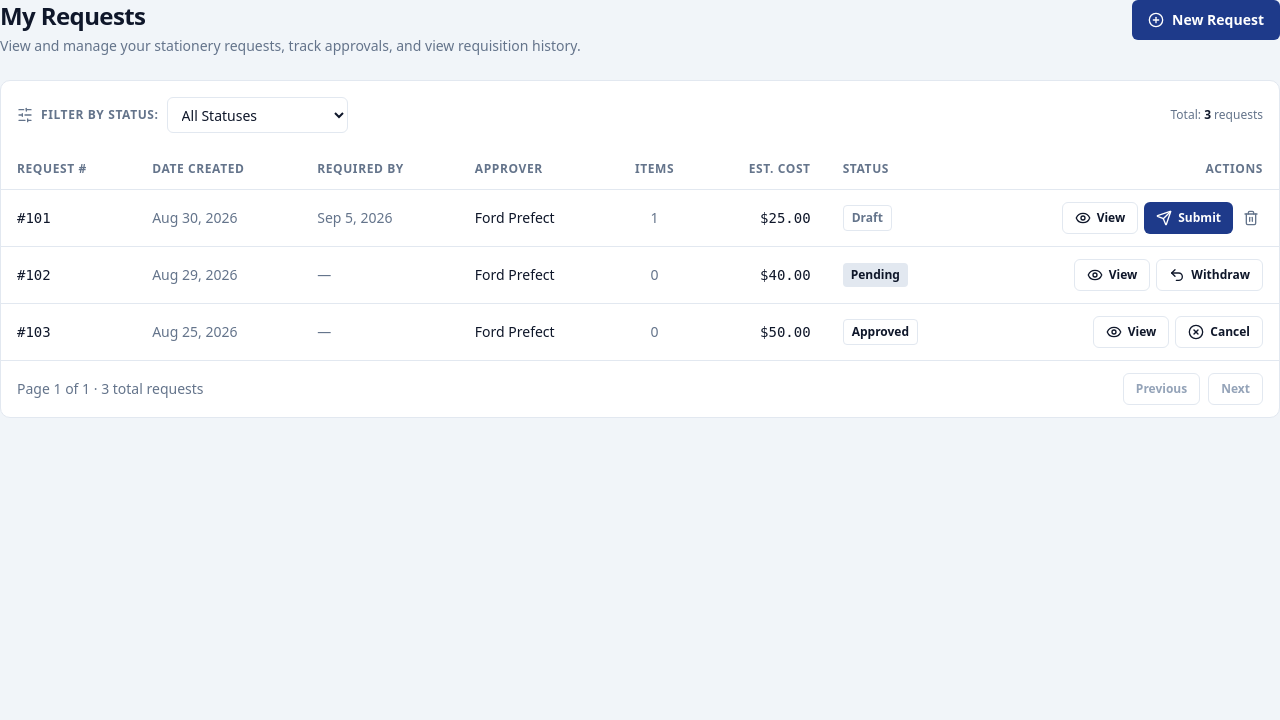
Test: MyRequestsPage › asks to withdraw a pending request through the modal, and says it is not final
Click the button with aria-label "request withdrawal of request #102" at (1210, 275), box [1156,259,1263,291]
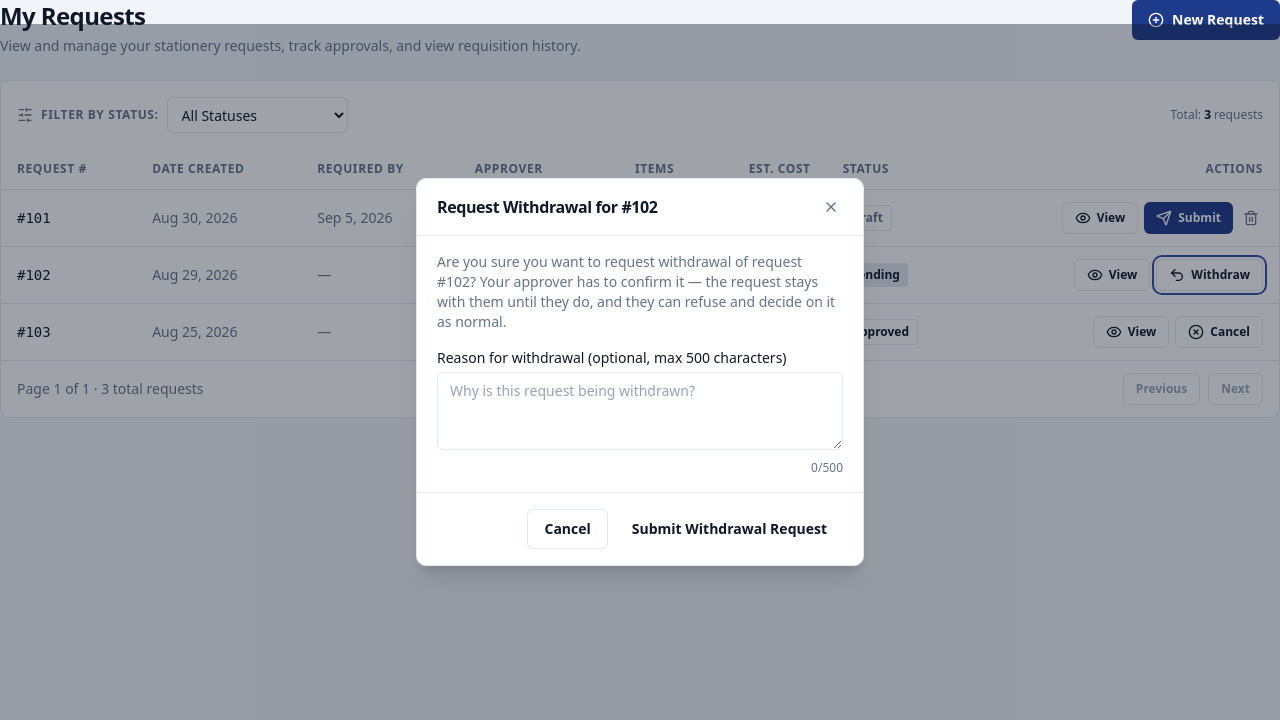
Now the heading "Request Withdrawal for #102" is shown, box [437,195,658,219]
Type "Ordered by mistake" into the text box labelled "Reason for withdrawal (optional, max 500 characters)" at (640, 411), box [437,372,843,450]
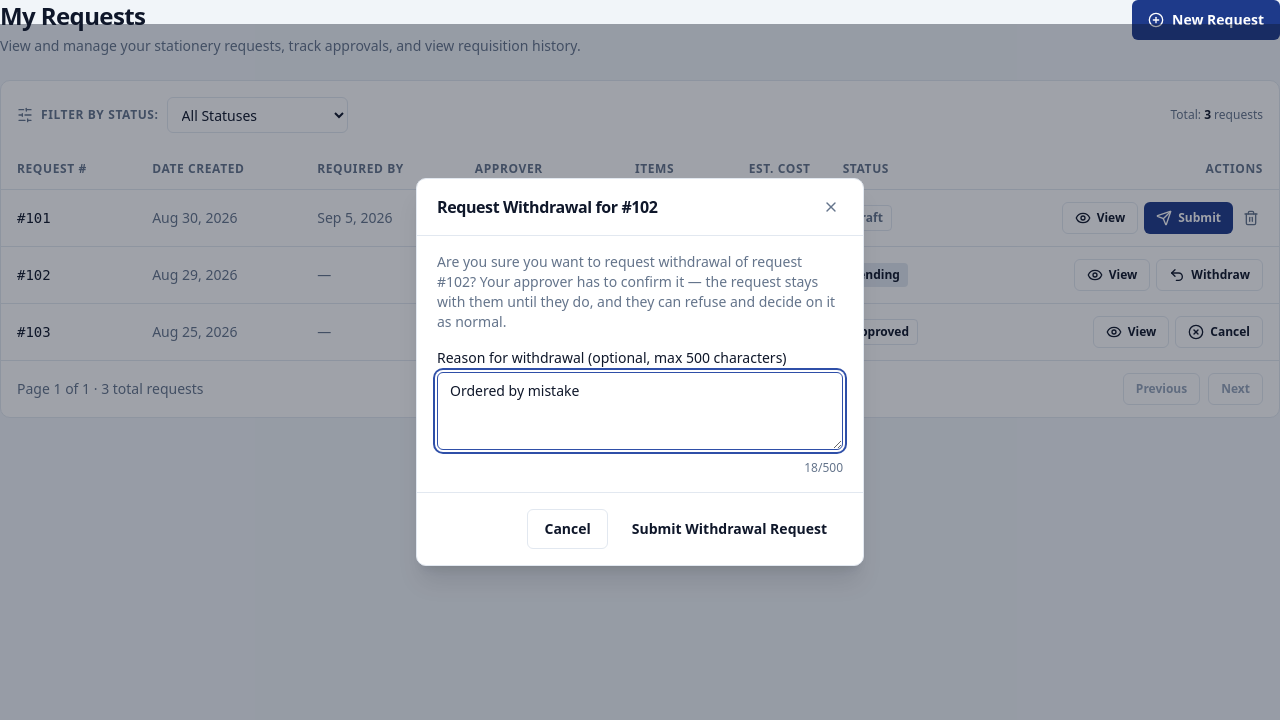
Click the button "Submit Withdrawal Request" at (729, 529), box [616,509,843,549]
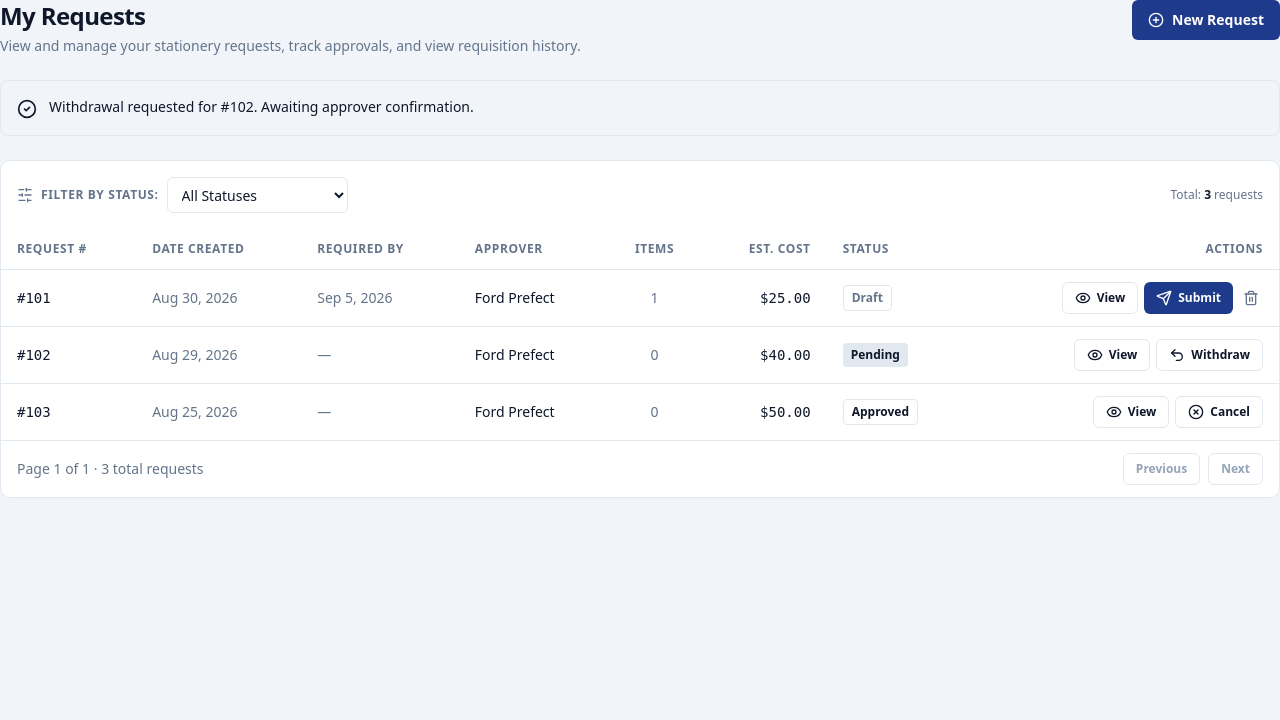
Now the text "Awaiting approver confirmation" is shown, box [49,97,474,116]
